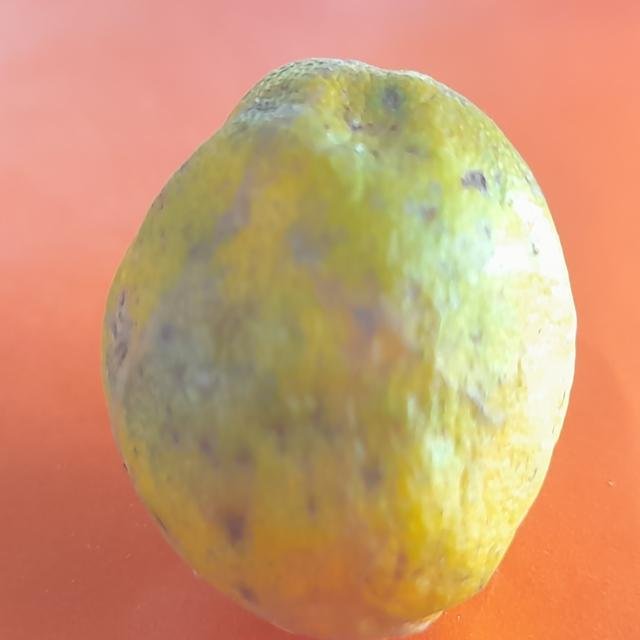black spot: (91, 36, 582, 638)
